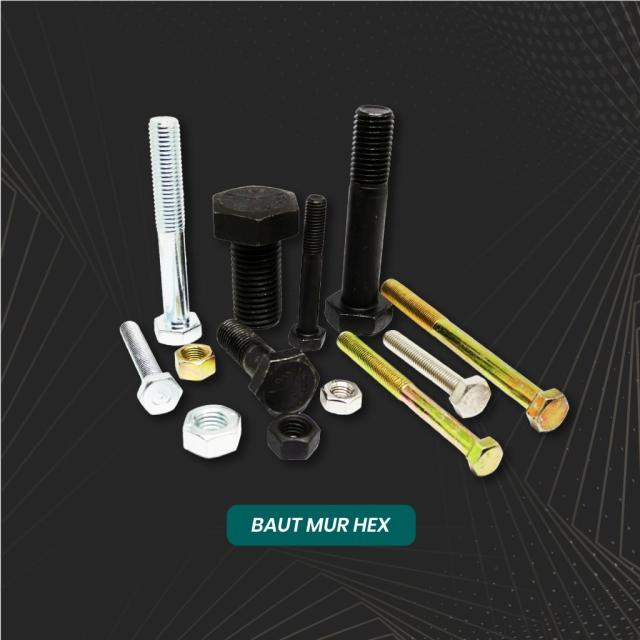Logam: (48, 59, 578, 520)
